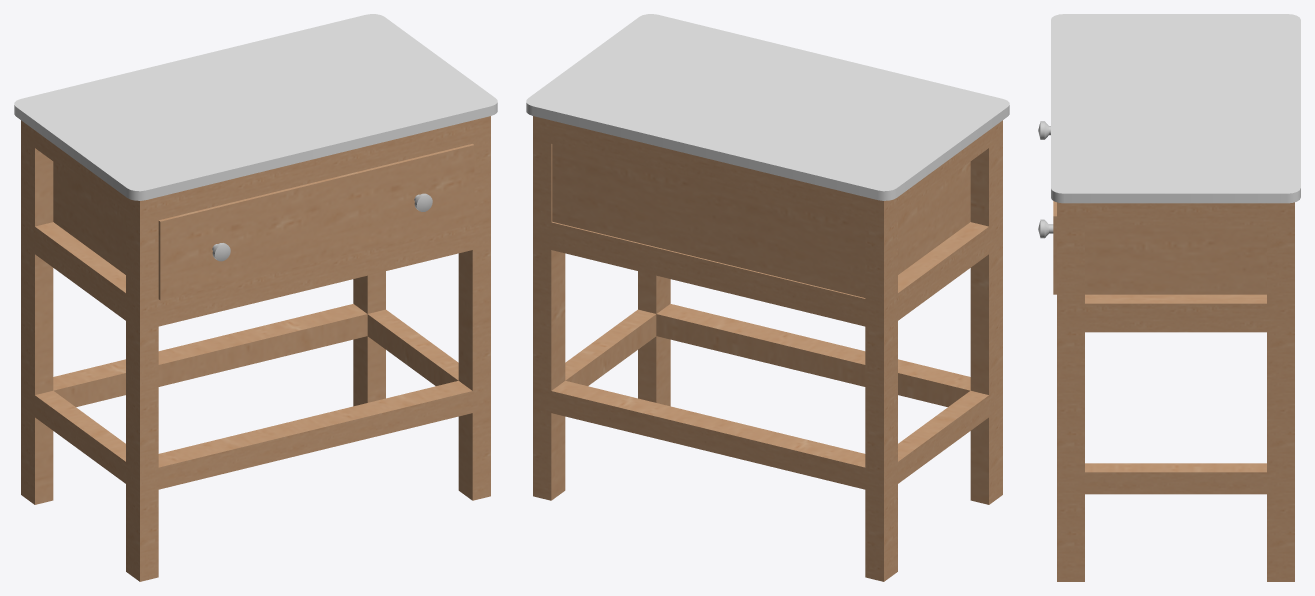
Rendered from vanity_modern_01.glb.
3 views of the same model, side by side, from view 1: azimuth 30°, elevation 25°; view 2: azimuth 150°, elevation 25°; view 3: azimuth 270°, elevation 25° (orthographic).
Parts seen in each view (by area): view 1: BathroomVanity01, BathroomVanity01Drawer; view 2: BathroomVanity01, BathroomVanity01Drawer; view 3: BathroomVanity01, BathroomVanity01Drawer.
Part boxes in pixels (bbox=[...]): BathroomVanity01: bbox=[14, 14, 497, 581]; BathroomVanity01Drawer: bbox=[53, 144, 474, 300]; BathroomVanity01: bbox=[526, 14, 1009, 581]; BathroomVanity01Drawer: bbox=[552, 144, 970, 297]; BathroomVanity01: bbox=[1051, 14, 1300, 581]; BathroomVanity01Drawer: bbox=[1038, 121, 1266, 294].
Size of the model in its own units: 1.16 by 1.18 by 0.7173.
Materials: 1 (1 with a texture image).
